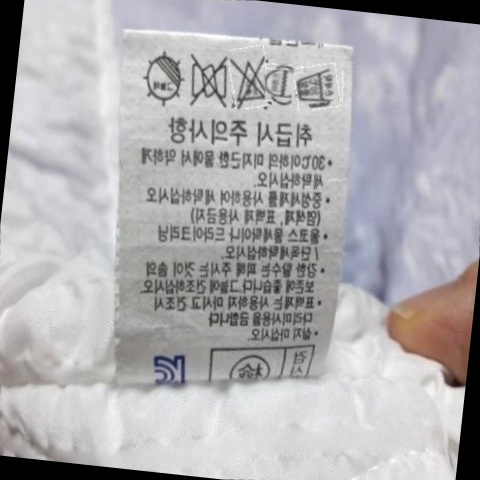DN_wring: (182, 52, 231, 107)
dry_clean: (264, 64, 298, 101)
hand_wash: (292, 61, 340, 108)
non_chlorine_bleach: (230, 53, 270, 107)
shade_dry: (137, 48, 188, 109)
